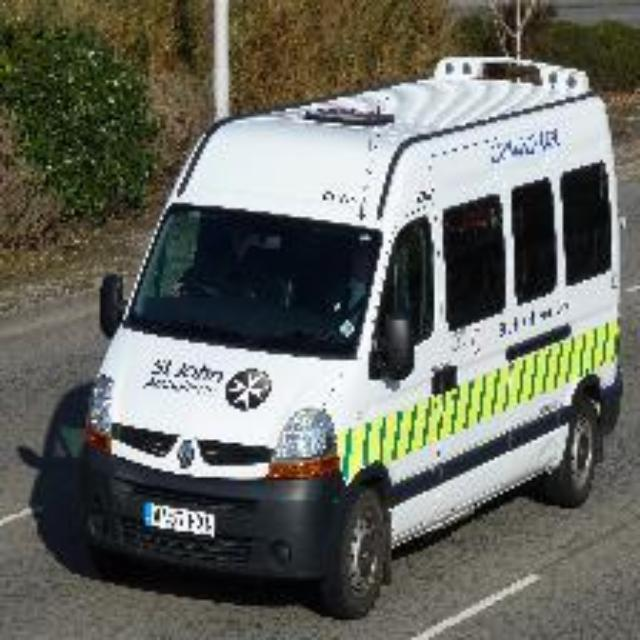emergency: (76, 69, 622, 571)
